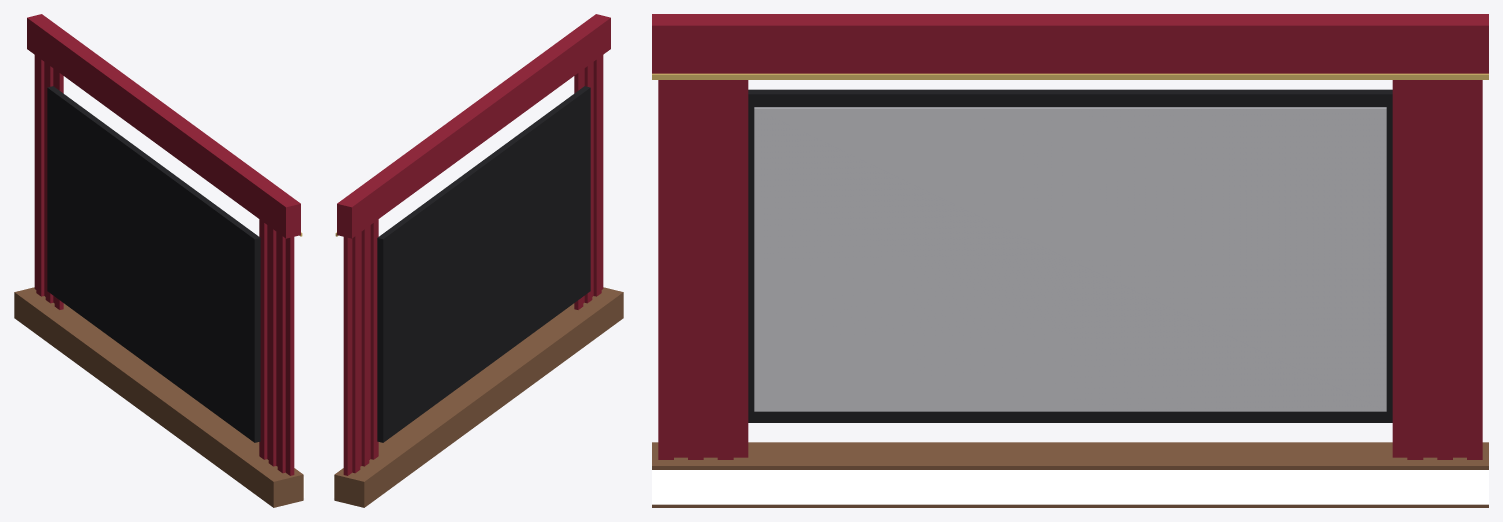
Rendered from SM_ProjectionScreen.fbx.
The picture shows the model from 3 angles, left to right: view 1: azimuth 30°, elevation 25°; view 2: azimuth 150°, elevation 25°; view 3: azimuth 270°, elevation 25°; orthographic projection. The views are drawn at different scales.
Visible parts, largest first — view 1: SM_ProjectionScreen; view 2: SM_ProjectionScreen; view 3: SM_ProjectionScreen.
Part boxes in pixels (x1,y1,x2,y2): SM_ProjectionScreen: (14,14,304,507); SM_ProjectionScreen: (333,14,623,507); SM_ProjectionScreen: (652,14,1488,507).
Bounding box in the file's own units: 62 × 570 × 900.
